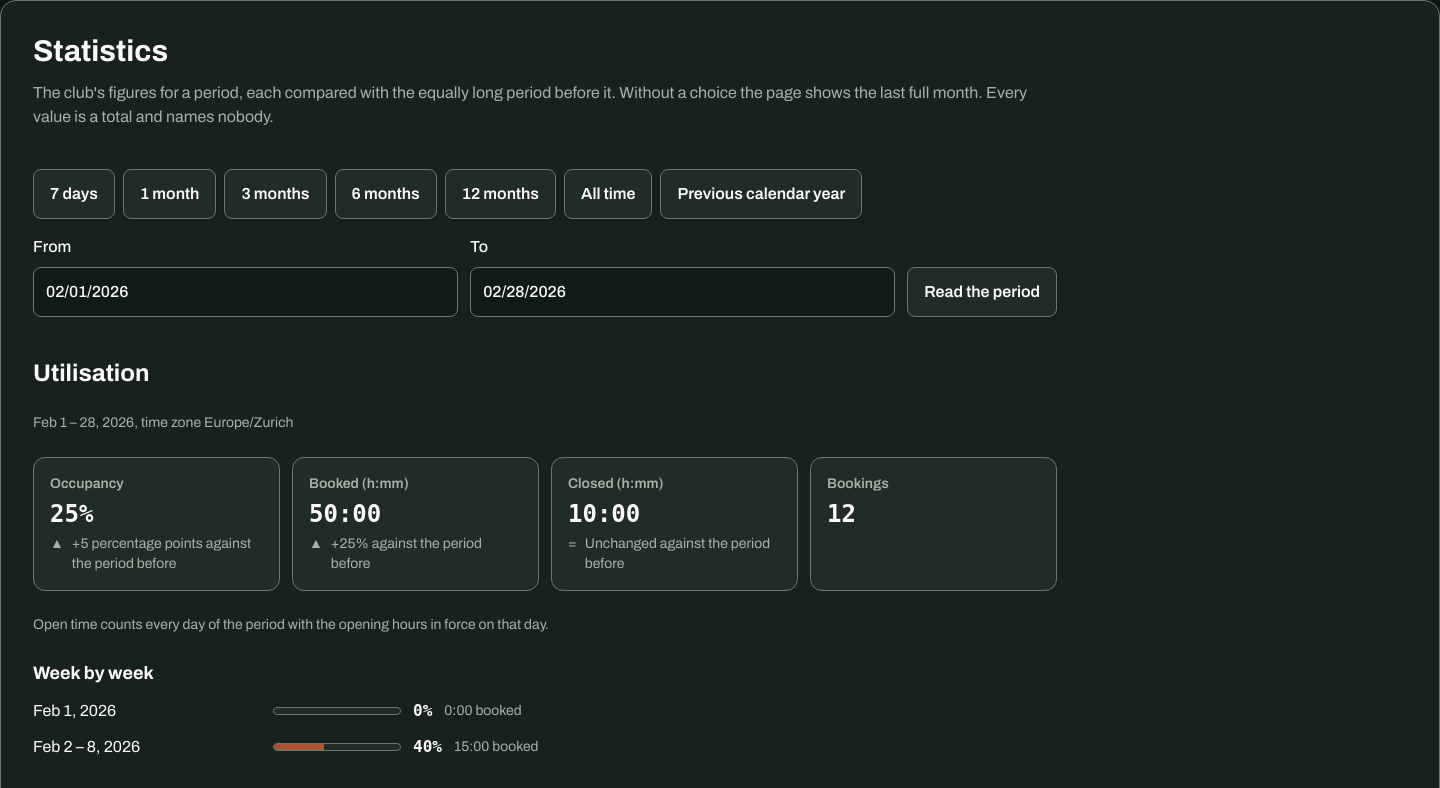
Test: AdminStatisticsView › given a free range that is half given or reversed, when a board reads it, then it is refused before anything is asked
Expected: the button with test id "statistics-choice-1m" is enabled, [123,169,216,219]
Clear the field with test id "utilisation-to" at coordinates (683, 292), box [470,267,895,317]
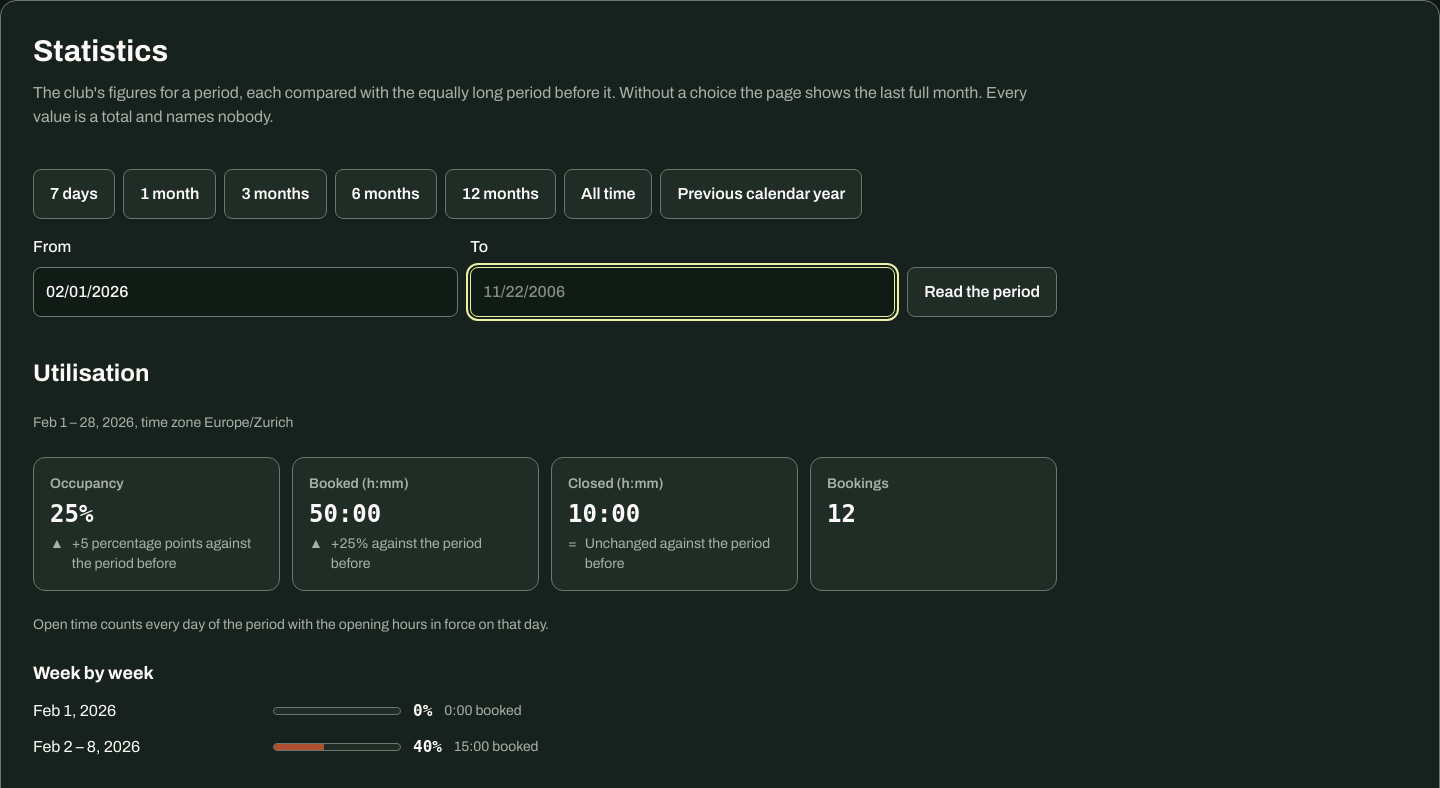
Click the button with test id "utilisation-read" at coordinates (982, 292), box [907,267,1057,317]
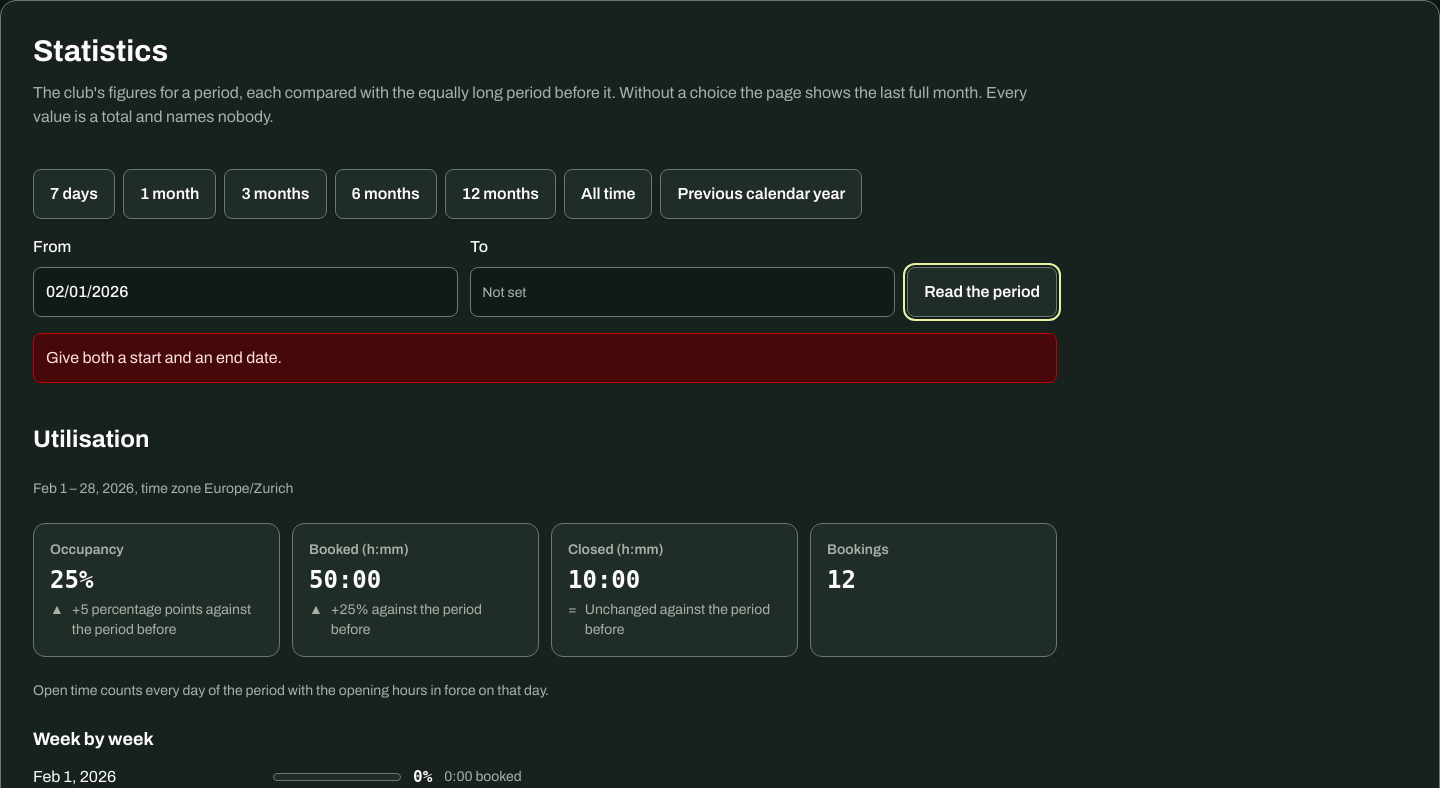
Now the message with test id "statistics-period-refused" reads "Give both a start and an end date.", box [46,349,282,366]
Type "2026-01-31" into the field with test id "utilisation-to" at coordinates (683, 292), box [470,267,895,317]
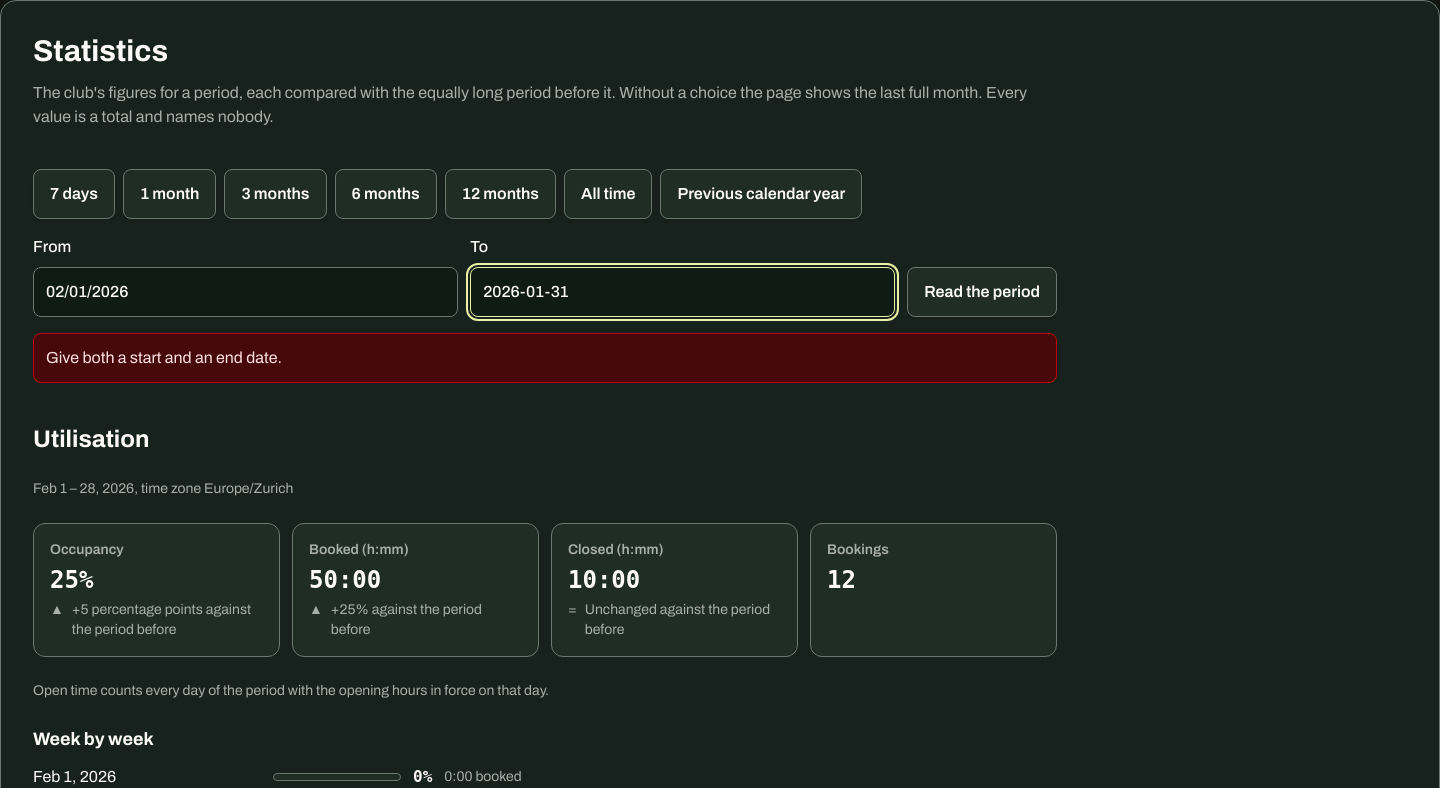
Click the button with test id "utilisation-read" at coordinates (982, 292), box [907,267,1057,317]
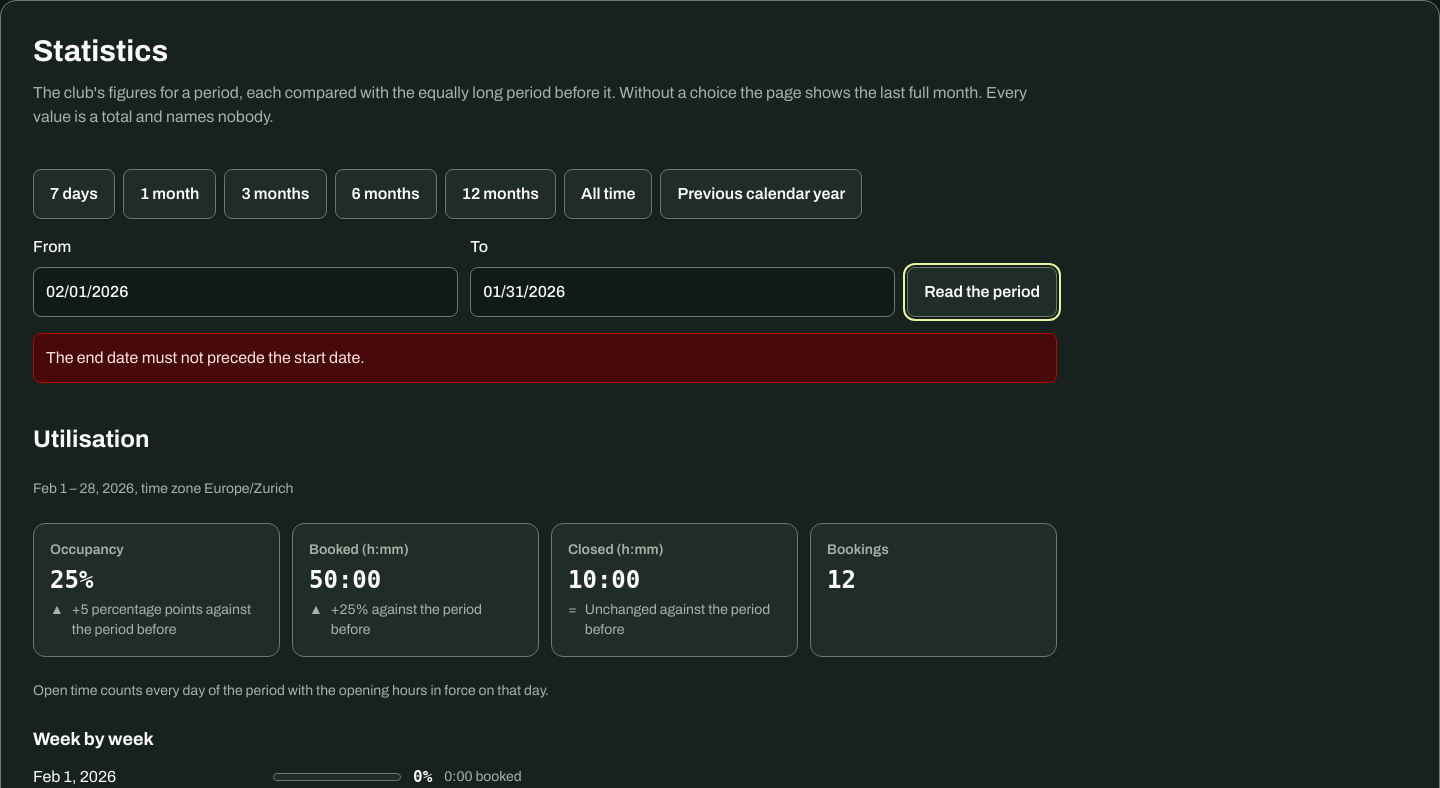
Now the message with test id "statistics-period-refused" reads "The end date must not precede the start date.", box [46,349,365,366]
